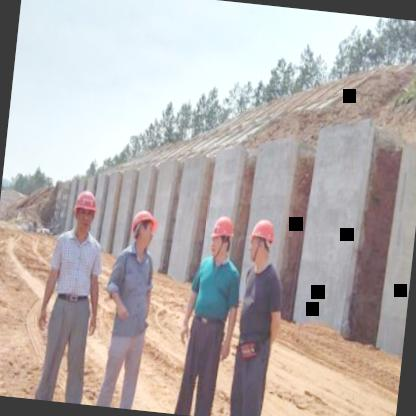helmet: (245, 214, 277, 269), (126, 204, 160, 255), (68, 186, 100, 236), (207, 212, 236, 264)
